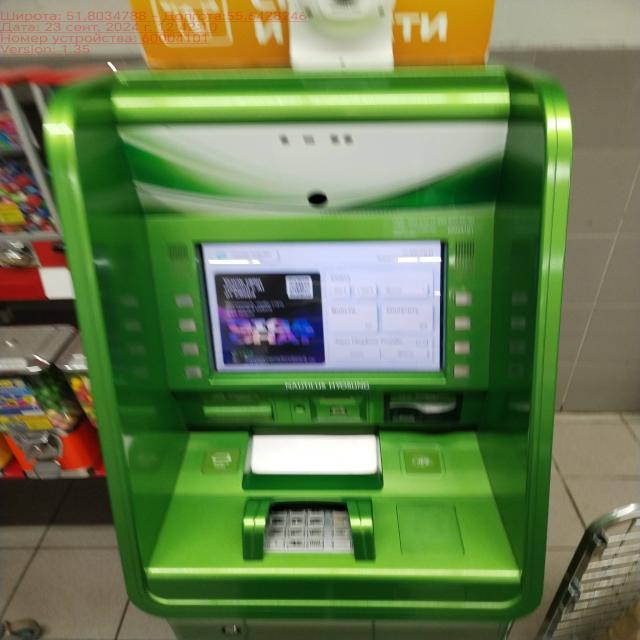bank: (37, 61, 576, 640)
